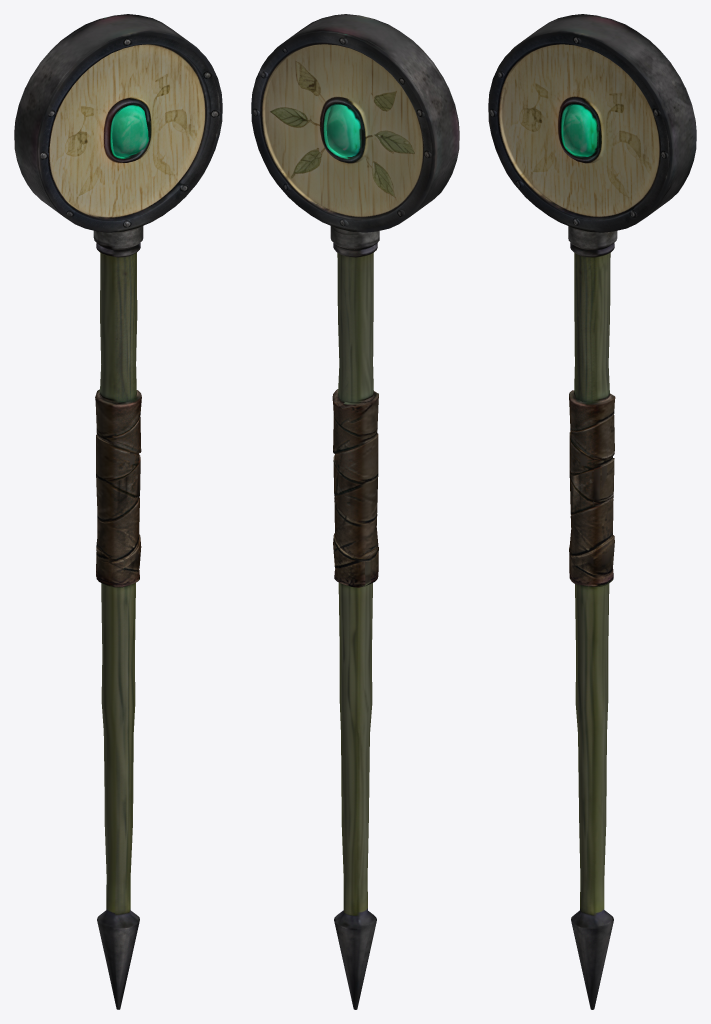
Rendered from sigillo_sylvorn.glb.
The picture shows the model from 3 angles, left to right: view 1: azimuth 30°, elevation 25°; view 2: azimuth 150°, elevation 25°; view 3: azimuth 330°, elevation 25°; orthographic projection.
Visible parts, largest first — view 1: sigillo_sylvorn; view 2: sigillo_sylvorn; view 3: sigillo_sylvorn.
Part boxes in pixels (x1,y1,x2,y2): sigillo_sylvorn: (14, 14, 222, 1009); sigillo_sylvorn: (251, 14, 459, 1009); sigillo_sylvorn: (488, 14, 696, 1009).
Size of the model in its own units: 0.0787 by 0.4 by 0.0256.
1 material, 1 textured.
